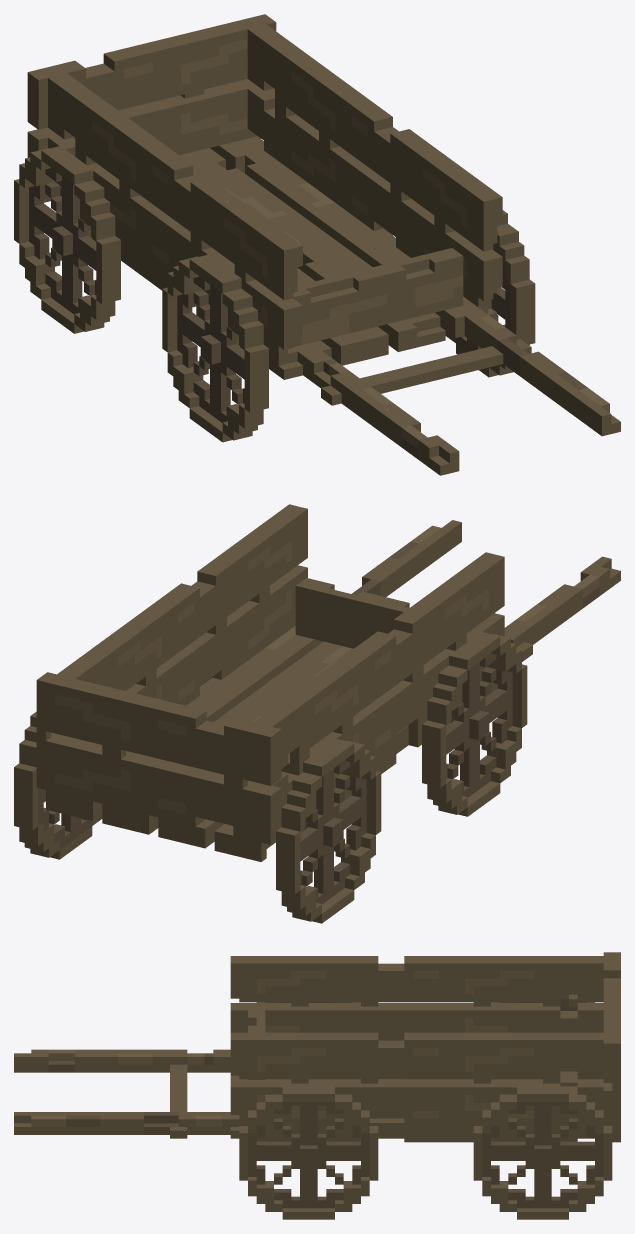
File: cart.glb
3 renders of one model, top to bottom at view 1: azimuth 30°, elevation 25°; view 2: azimuth 150°, elevation 25°; view 3: azimuth 270°, elevation 25°, orthographic. The views are drawn at different scales.
Parts seen in each view (by area): view 1: Trolley; view 2: Trolley; view 3: Trolley.
Boxes of the visible parts, x1=… form: Trolley: x1=14, y1=14, x2=620, y2=475; Trolley: x1=14, y1=504, x2=620, y2=923; Trolley: x1=14, y1=952, x2=620, y2=1219.
Size of the model in its own units: 0.6 by 0.42 by 1.4.
Materials: 1 (1 with a texture image).
